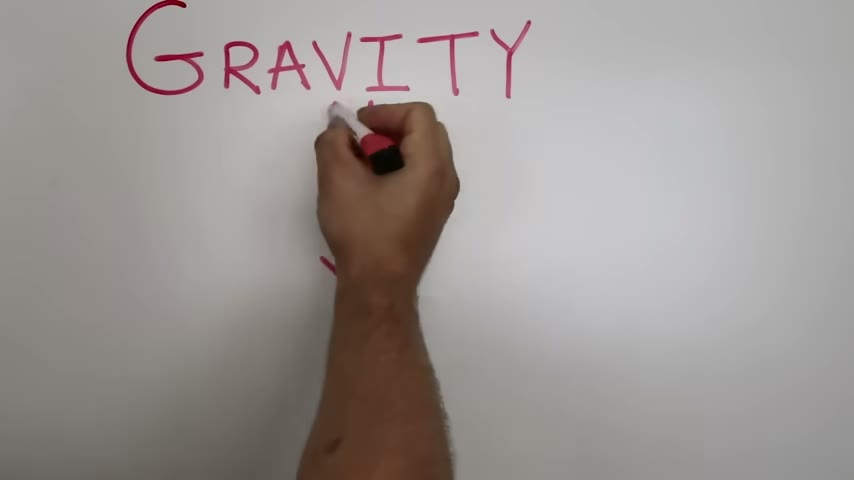barbell_plate_side: (120, 0, 201, 131)
